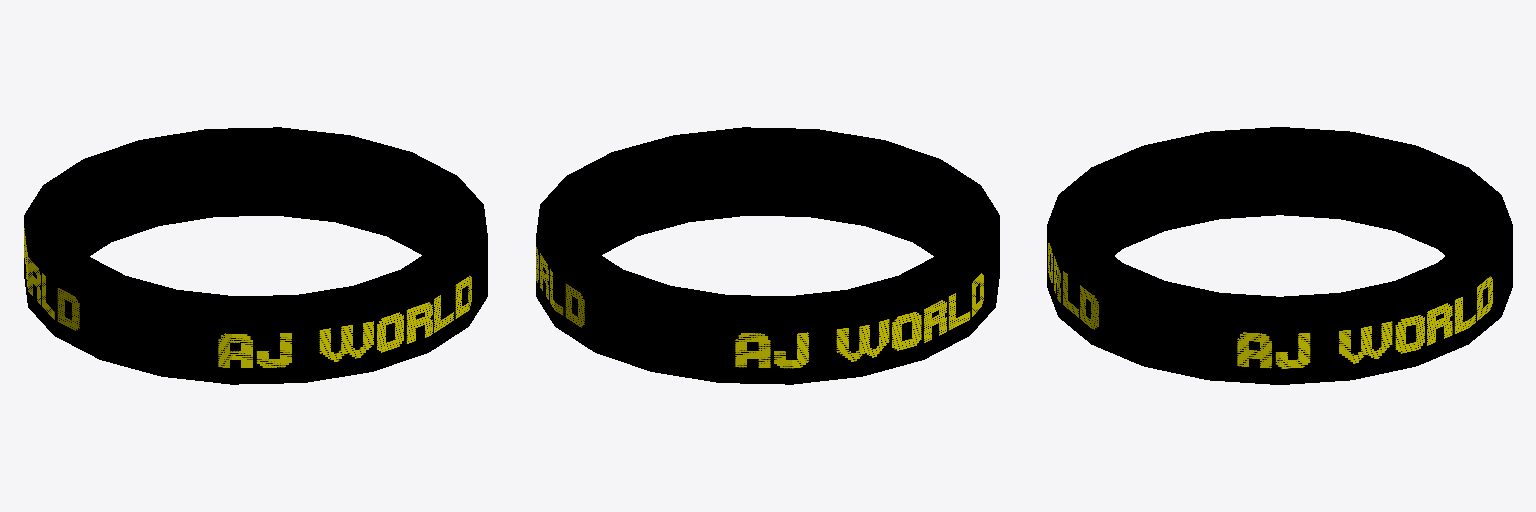
3 renders of one model, left to right at view 1: azimuth 30°, elevation 25°; view 2: azimuth 150°, elevation 25°; view 3: azimuth 270°, elevation 25°, orthographic.
Parts seen in each view (by area): view 1: pTorus1; view 2: pTorus1; view 3: pTorus1.
Part boxes in pixels (x1,y1,x2,y2): pTorus1: (24,127,487,384); pTorus1: (536,127,999,384); pTorus1: (1047,127,1512,384).
Size of the model in its own units: 10.56 by 2.08 by 10.56.
Materials: 2 (1 with a texture image).